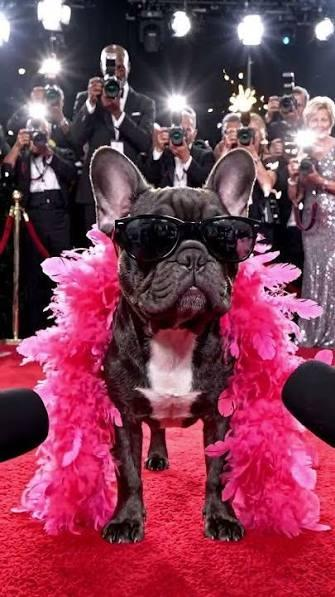adult_dog: (83, 141, 259, 550)
